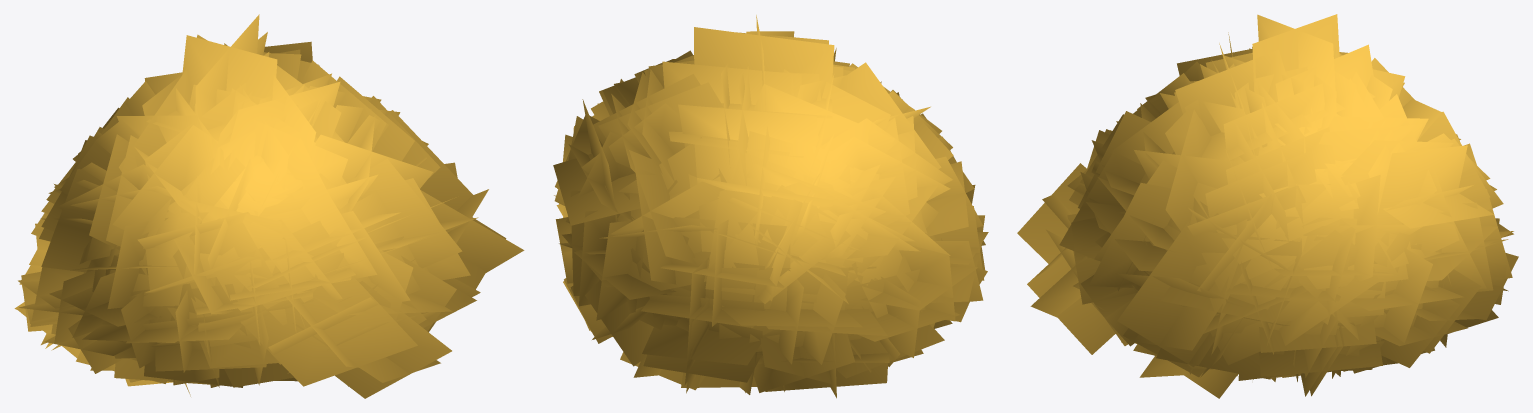
File: SM_bush_01_yel.fbx
The picture shows the model from 3 angles, left to right: view 1: azimuth 30°, elevation 25°; view 2: azimuth 150°, elevation 25°; view 3: azimuth 270°, elevation 25°; orthographic projection.
Visible parts, largest first — view 1: Object3427936; view 2: Object3427936; view 3: Object3427936.
Part boxes in pixels (x1,y1,x2,y2): Object3427936: (14, 14, 524, 398); Object3427936: (553, 15, 988, 398); Object3427936: (1017, 14, 1518, 398).
Size of the model in its own units: 1.36 by 0.9745 by 1.35.
Materials: 1 (1 with a texture image).
